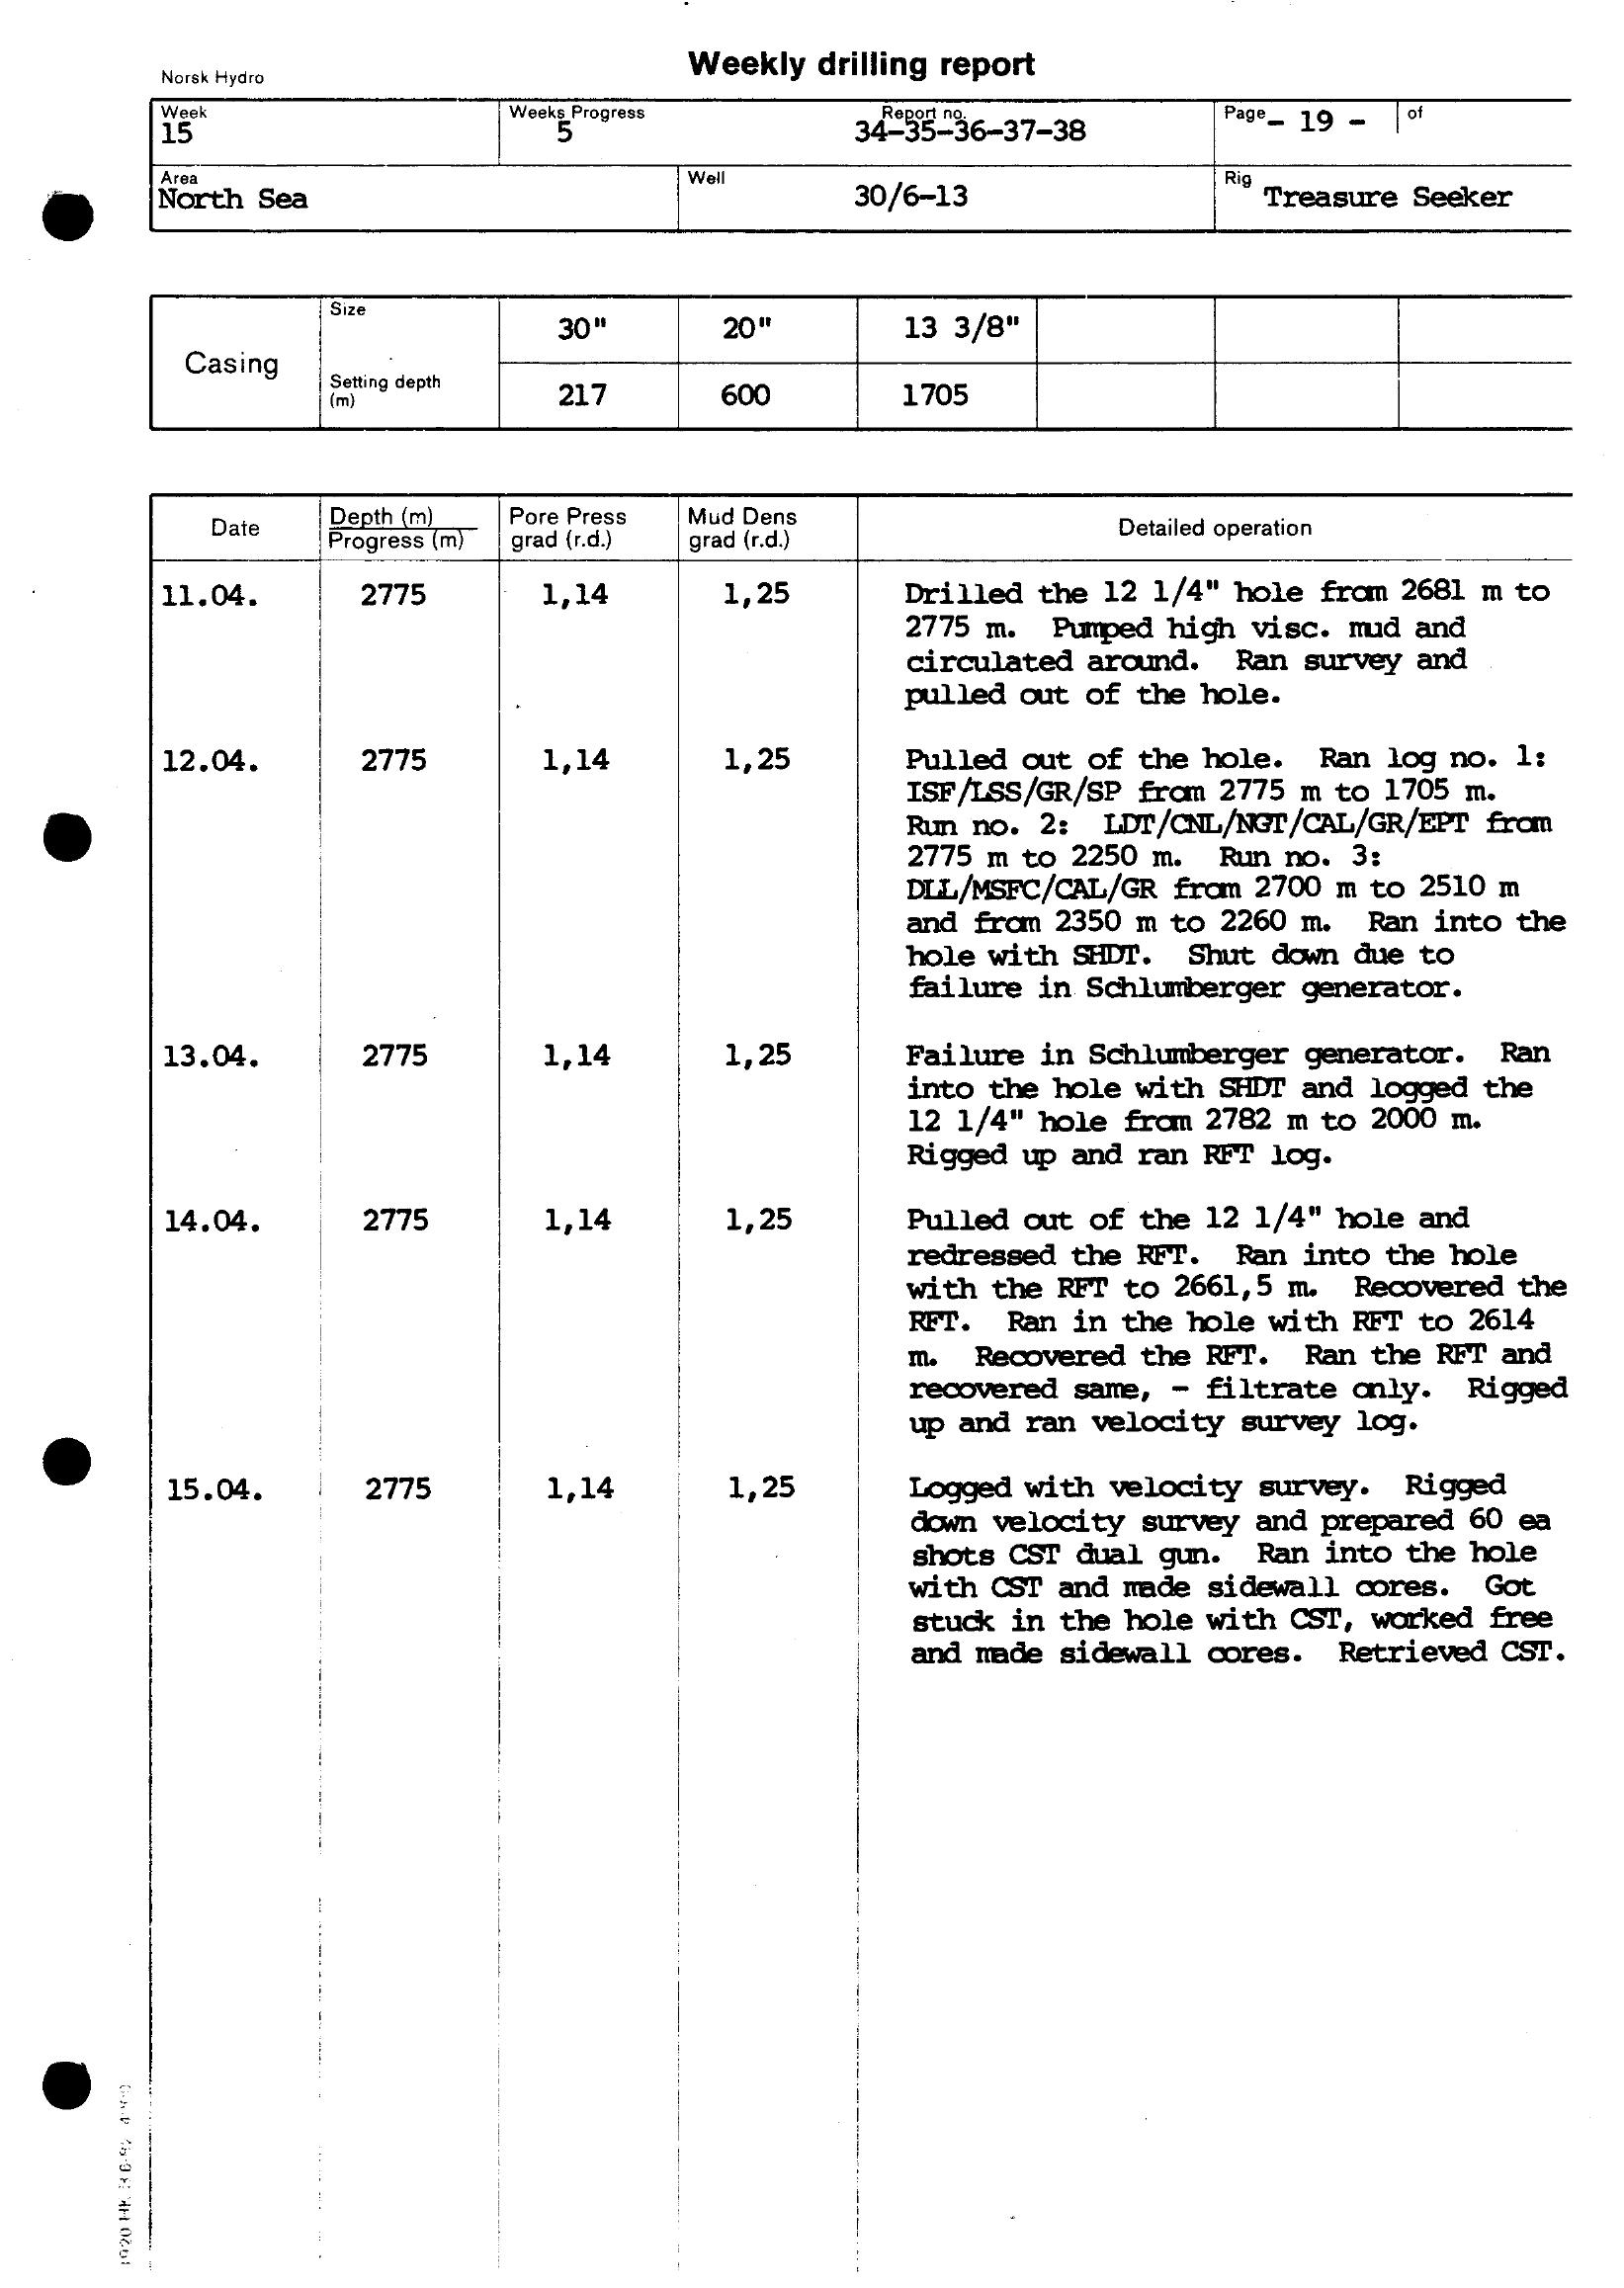graph: (139, 91, 1624, 1822)
text: (680, 42, 1051, 84)
